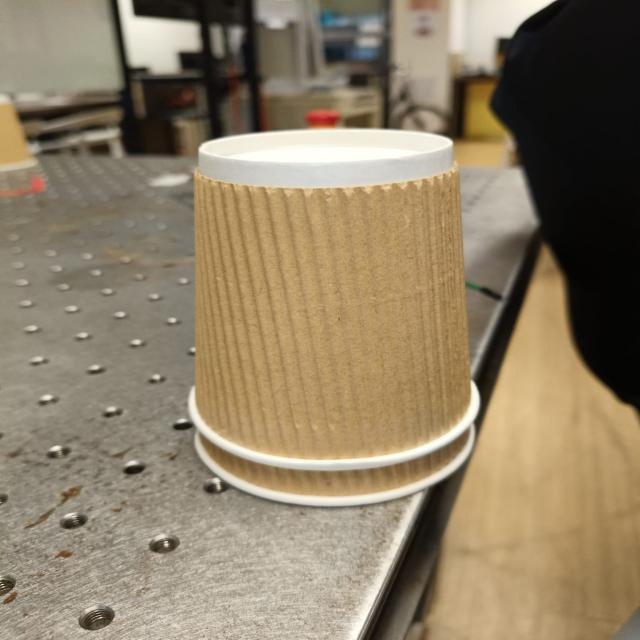Browncup: (195, 168, 471, 459), (204, 432, 466, 497), (0, 92, 45, 175)
